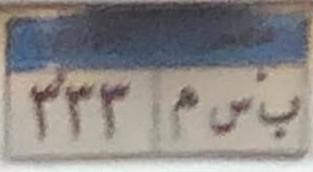3: (57, 69, 100, 142), (27, 68, 59, 144), (94, 81, 131, 143)
ب: (252, 86, 303, 139)
س: (202, 92, 248, 140)
م: (158, 79, 207, 149)
